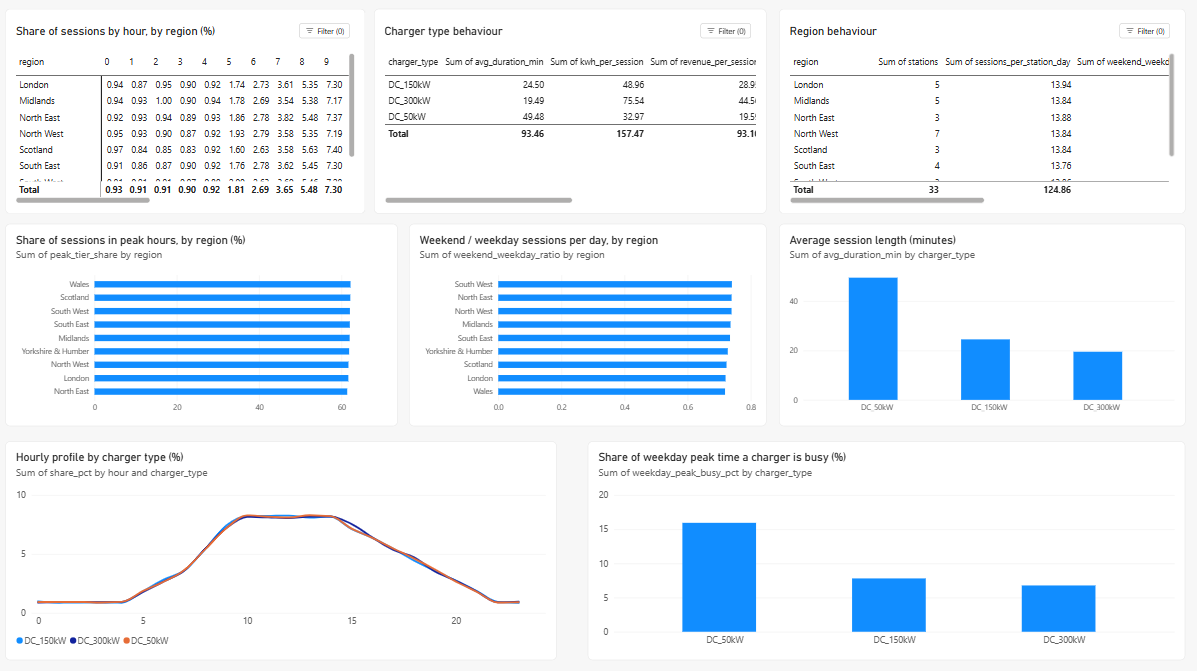

Layout of this report page (visuals, bound fields, positions):
{"tool":"powerbi","page":{"name":"Region & Charger Type","canvas":[1920,1080],"ordinal":3},"visuals":[{"type":"pivotTable","title":"Share of sessions by hour, by region (%)","fields":{"Columns":["region_hourly_profile.hour"],"Rows":["region_hourly_profile.region"],"Values":["Avg(region_hourly_profile.share_pct)"]},"box":[10,14,576,328],"z":0},{"type":"barChart","title":"Weekend / weekday sessions per day, by region","fields":{"Category":["region_behaviour.region"],"Y":["Sum(region_behaviour.weekend_weekday_ratio)"]},"box":[656,358,572,324],"z":1},{"type":"barChart","title":"Share of sessions in peak hours, by region (%)","fields":{"Category":["region_behaviour.region"],"Y":["Sum(region_behaviour.peak_tier_share)"]},"box":[10,358,628,324],"z":2},{"type":"lineChart","title":"Hourly profile by charger type (%)","fields":{"Category":["charger_type_hourly_profile.hour"],"Series":["charger_type_hourly_profile.charger_type"],"Y":["Sum(charger_type_hourly_profile.share_pct)"]},"box":[10,706,882,350],"z":3},{"type":"columnChart","title":"Average session length (minutes)","fields":{"Category":["charger_type_behaviour.charger_type"],"Y":["Sum(charger_type_behaviour.avg_duration_min)"]},"box":[1248,358,650,324],"z":4},{"type":"columnChart","title":"Share of weekday peak time a charger is busy (%)","fields":{"Category":["charger_type_behaviour.charger_type"],"Y":["Sum(charger_type_behaviour.weekday_peak_busy_pct)"]},"box":[942,706,956,350],"z":5},{"type":"tableEx","title":"Charger type behaviour","fields":{"Values":["charger_type_behaviour.charger_type","Sum(charger_type_behaviour.avg_duration_min)","Sum(charger_type_behaviour.kwh_per_session)","Sum(charger_type_behaviour.revenue_per_session)","Sum(charger_type_behaviour.weekend_weekday_ratio)","Sum(charger_type_behaviour.peak_tier_share)","Sum(charger_type_behaviour.weekday_peak_busy_pct)"]},"box":[600,14,628,328],"z":6},{"type":"tableEx","title":"Region behaviour","fields":{"Values":["region_behaviour.region","Sum(region_behaviour.stations)","Sum(region_behaviour.sessions_per_station_day)","Sum(region_behaviour.weekend_weekday_ratio)","Sum(region_behaviour.peak_tier_share)","Sum(region_behaviour.premium_window_share)","Sum(region_behaviour.kwh_per_session)"]},"box":[1248,14,650,328],"z":7}]}

Visuals, with their boxes in screenshot pixels (x1, y1, x2, y2), scaled from the page's 1920x1080 canvas onto the 1197x671 screenshot:
"Share of sessions by hour, by region (%)" pivotTable: box(6, 9, 365, 212)
"Weekend / weekday sessions per day, by region" barChart: box(409, 222, 766, 424)
"Share of sessions in peak hours, by region (%)" barChart: box(6, 222, 398, 424)
"Hourly profile by charger type (%)" lineChart: box(6, 439, 556, 656)
"Average session length (minutes)" columnChart: box(778, 222, 1183, 424)
"Share of weekday peak time a charger is busy (%)" columnChart: box(587, 439, 1183, 656)
"Charger type behaviour" tableEx: box(374, 9, 766, 212)
"Region behaviour" tableEx: box(778, 9, 1183, 212)
